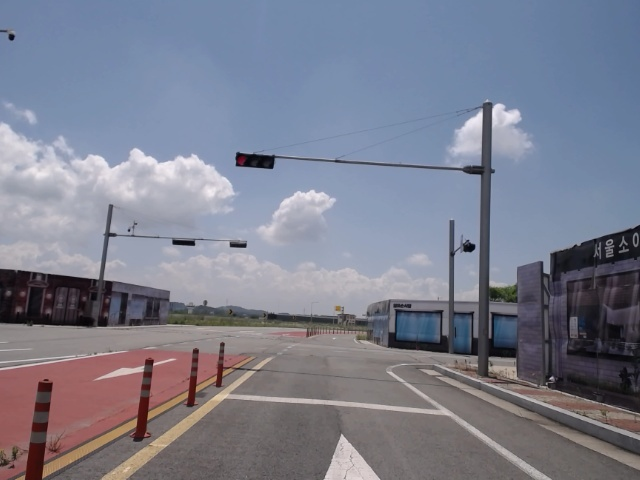red_3: (233, 152, 275, 170)
